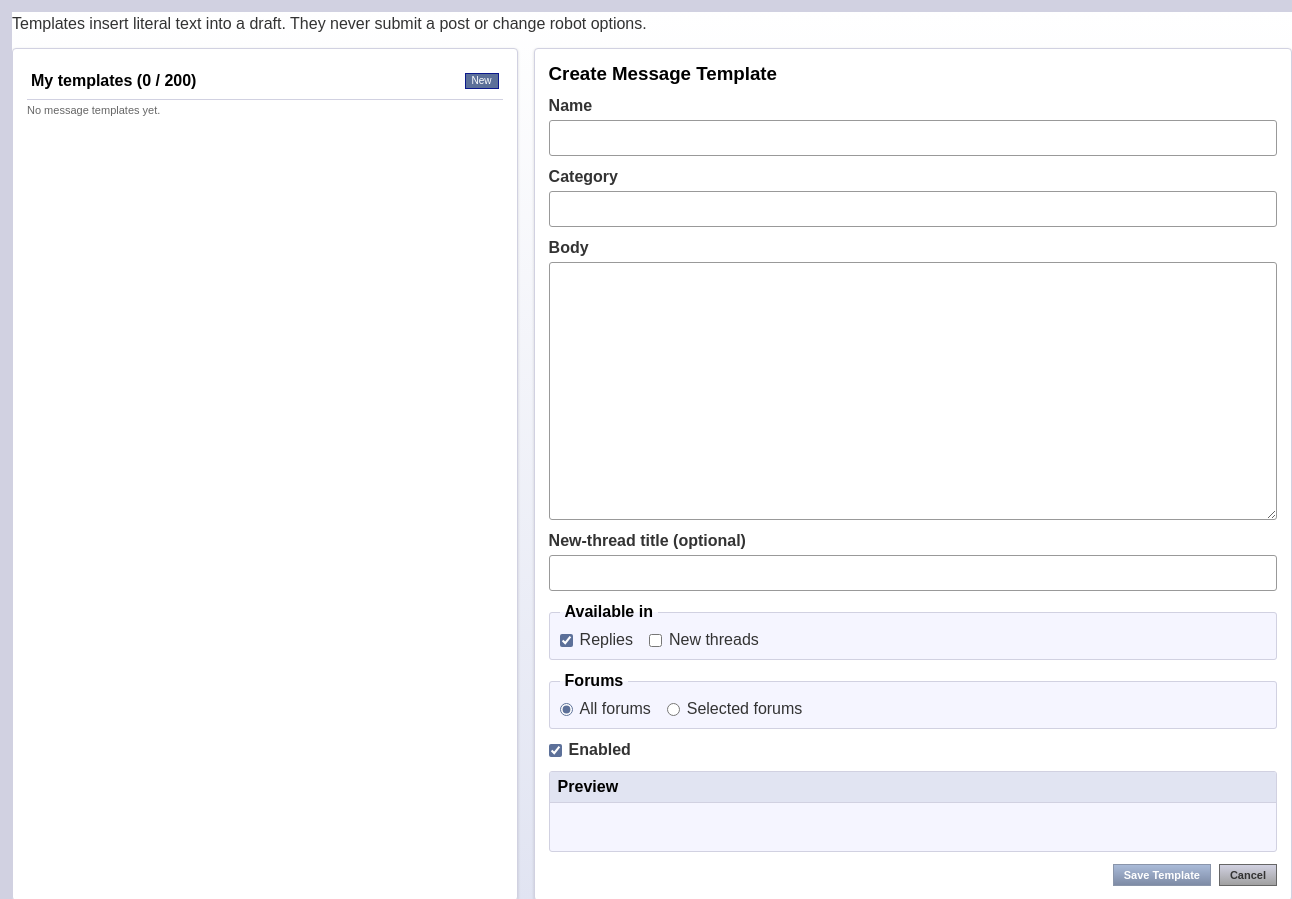
Test: MessageTemplateManager › preserves the form and reports a refresh failure after a successful create
Step 1. Type "Approval" into the field with test id "message-template-name" → (913, 138), box [549,120,1277,156]
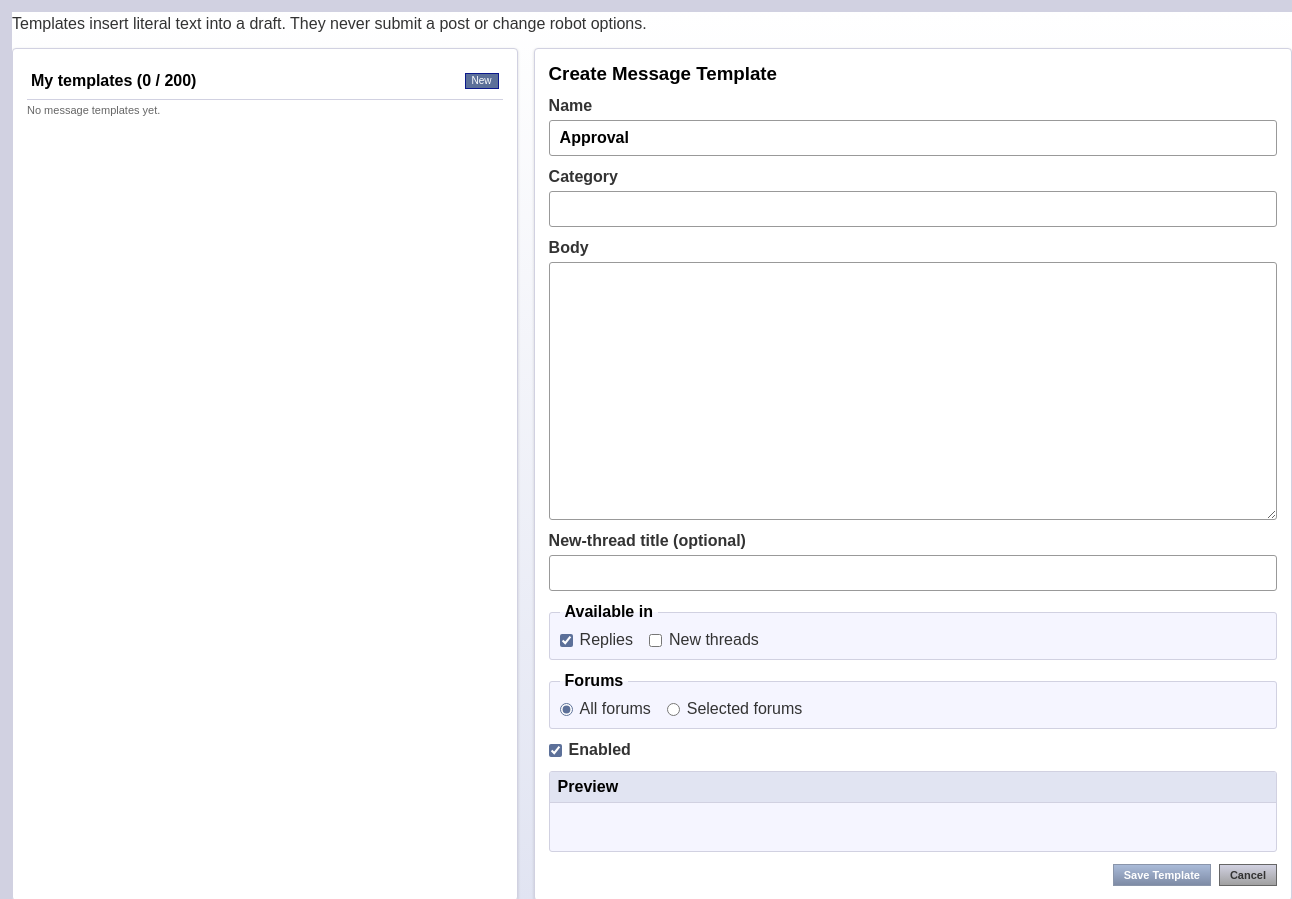
Step 2. Type "Approved after review." into the text box with test id "message-template-body" → (913, 391), box [549,262,1277,520]
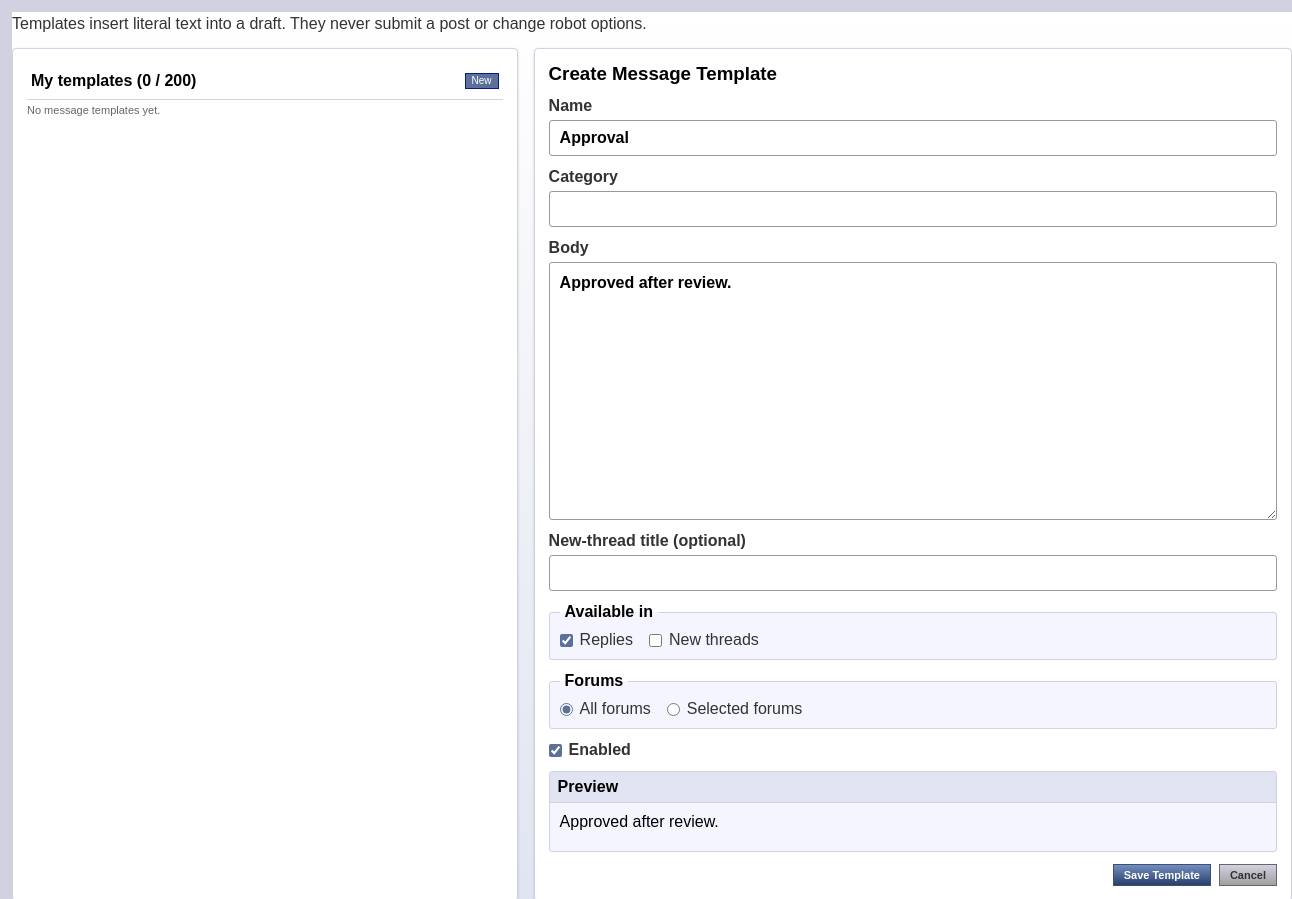
Step 3. Click the button with test id "message-template-save" → (1162, 875), box [1113,864,1211,886]
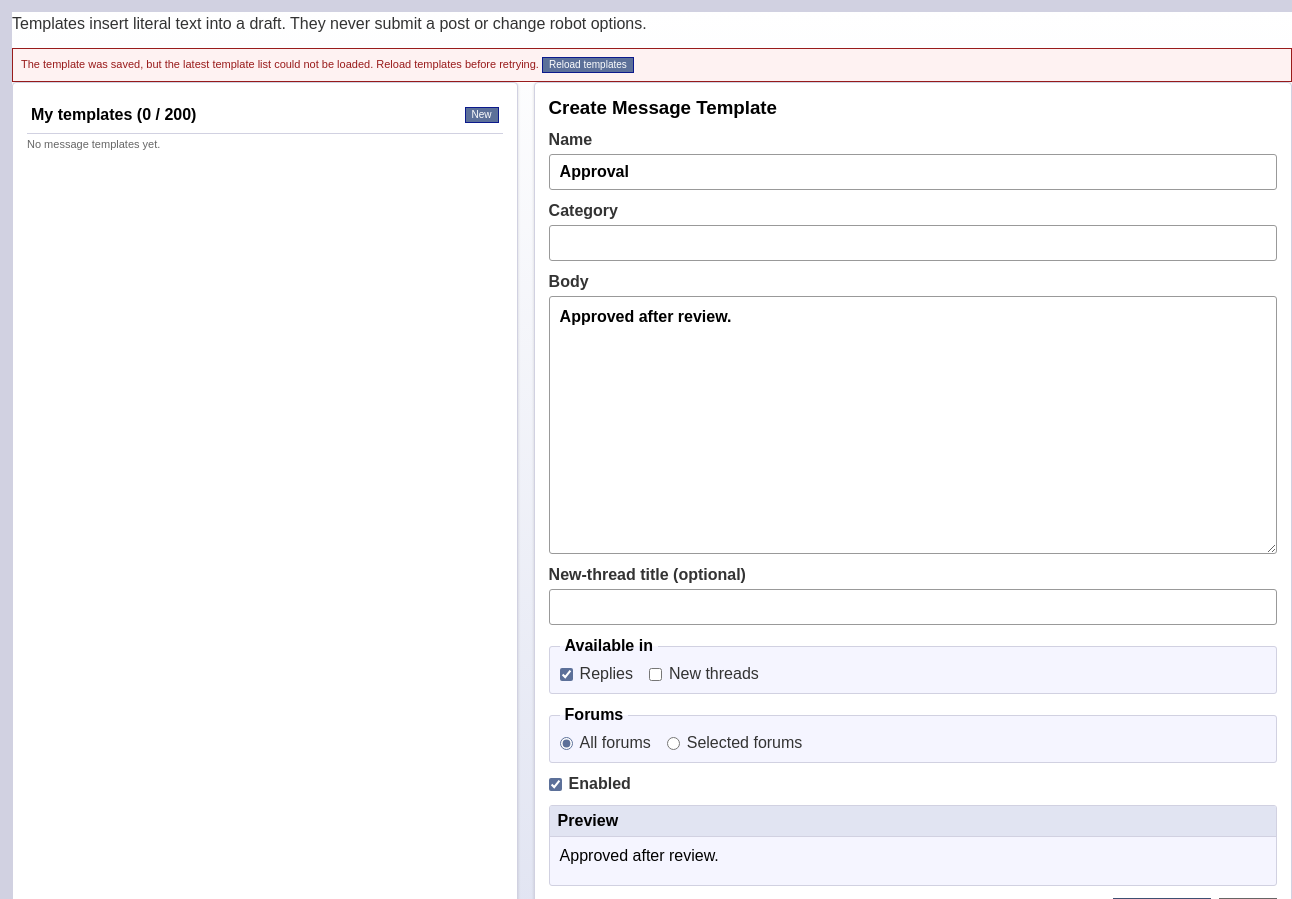
Expected: the message shows "saved, but the latest template list could not be loaded", [21,58,542,70]
